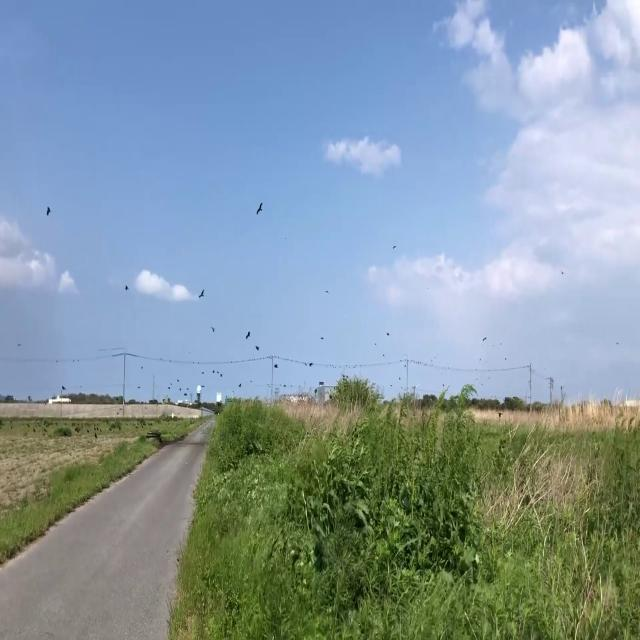bird: (256, 198, 263, 220), (199, 284, 204, 301), (308, 357, 314, 370), (46, 202, 50, 220), (482, 332, 487, 344), (246, 327, 250, 340), (320, 332, 324, 342), (386, 326, 390, 336)
